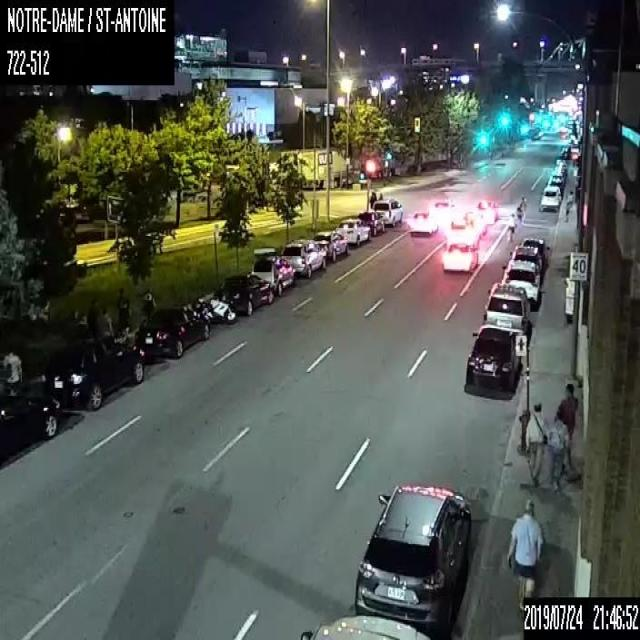pedestrian: (504, 497, 544, 624), (554, 380, 578, 480), (524, 398, 548, 492), (548, 408, 572, 497), (2, 340, 23, 383), (116, 285, 130, 339), (87, 296, 102, 338), (142, 287, 155, 312), (507, 211, 516, 244), (564, 189, 573, 222), (519, 195, 525, 226), (516, 202, 522, 231), (369, 190, 376, 207), (377, 191, 383, 199)
vehicle: (355, 481, 477, 639), (42, 338, 143, 409), (0, 385, 59, 460), (133, 305, 210, 359), (465, 326, 521, 393), (300, 612, 430, 639), (214, 272, 273, 315), (482, 280, 530, 330), (501, 258, 539, 308), (250, 255, 296, 295), (281, 238, 325, 275), (193, 291, 237, 323), (312, 230, 348, 262), (442, 242, 478, 272), (509, 245, 541, 278), (334, 218, 370, 244), (372, 197, 402, 228), (520, 235, 550, 266), (446, 220, 478, 246), (407, 210, 437, 234), (464, 208, 488, 235), (356, 210, 384, 233), (431, 198, 455, 222), (475, 199, 499, 223), (540, 185, 560, 211), (548, 170, 564, 187), (553, 158, 567, 173)
